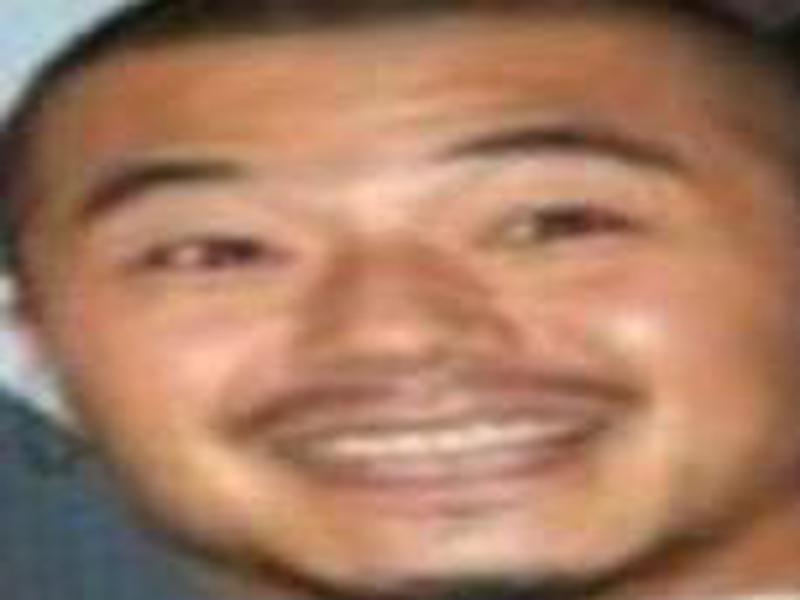without_mask: (23, 70, 800, 585)
